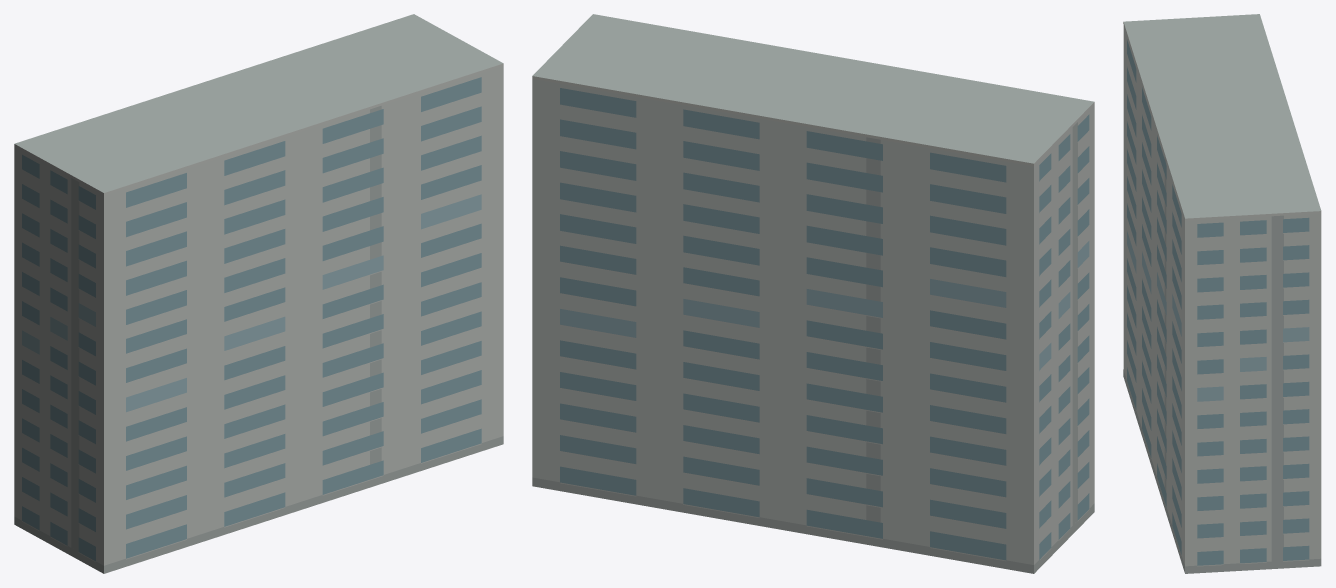
File: residential-697a9408-b9a7-4d3b-8127-e9dacc89c5dc.glb
3 renders of one model, left to right at view 1: azimuth 30°, elevation 25°; view 2: azimuth 150°, elevation 25°; view 3: azimuth 270°, elevation 25°, orthographic. The views are drawn at different scales.
Visible parts, largest first — view 1: residential-697a9408-b9a7-4d3b-8127-e9dacc89c5dc.tmp; view 2: residential-697a9408-b9a7-4d3b-8127-e9dacc89c5dc.tmp; view 3: residential-697a9408-b9a7-4d3b-8127-e9dacc89c5dc.tmp.
Boxes of the visible parts, x1,y1,x2,y2 form: residential-697a9408-b9a7-4d3b-8127-e9dacc89c5dc.tmp: (14,14,503,573); residential-697a9408-b9a7-4d3b-8127-e9dacc89c5dc.tmp: (532,14,1094,573); residential-697a9408-b9a7-4d3b-8127-e9dacc89c5dc.tmp: (1123,14,1321,573).
Size of the model in its own units: 43.23 by 35 by 17.68.
